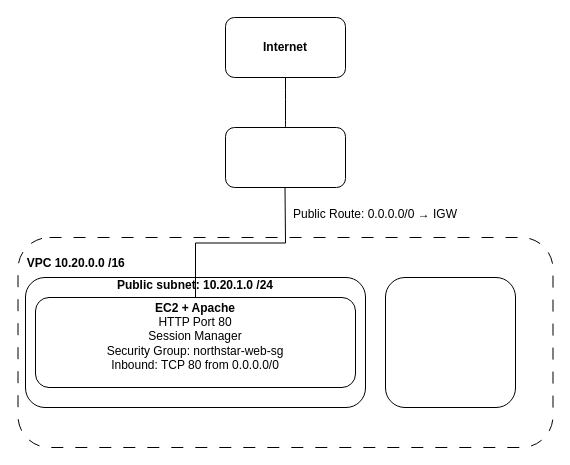
This 570x465 diagram has some shape labels left out. The shapes that lost their labels are listed below. From the top down, each one's centre as x and y in pixels, then its label:
[285,157]: Internet Gateway
[450,342]: Private subnet 10.20.2.0 /24
